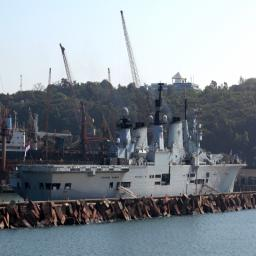Portanaves: (10, 80, 251, 208)
